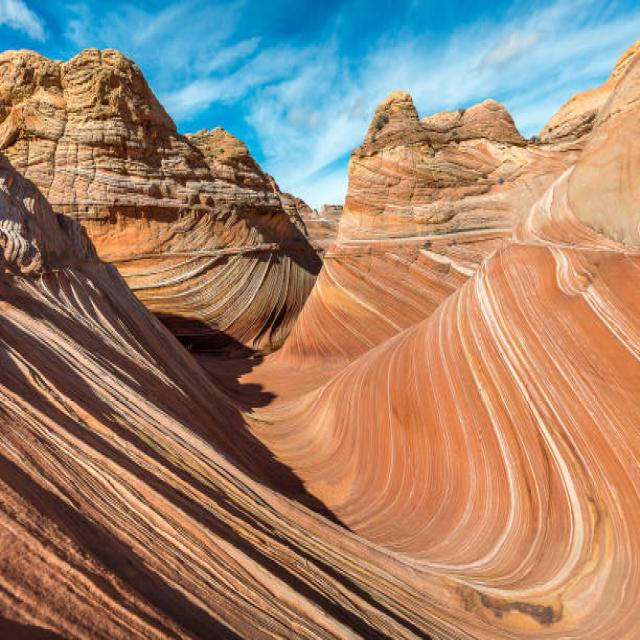Sedimentary: (3, 35, 324, 266), (331, 45, 640, 239)
